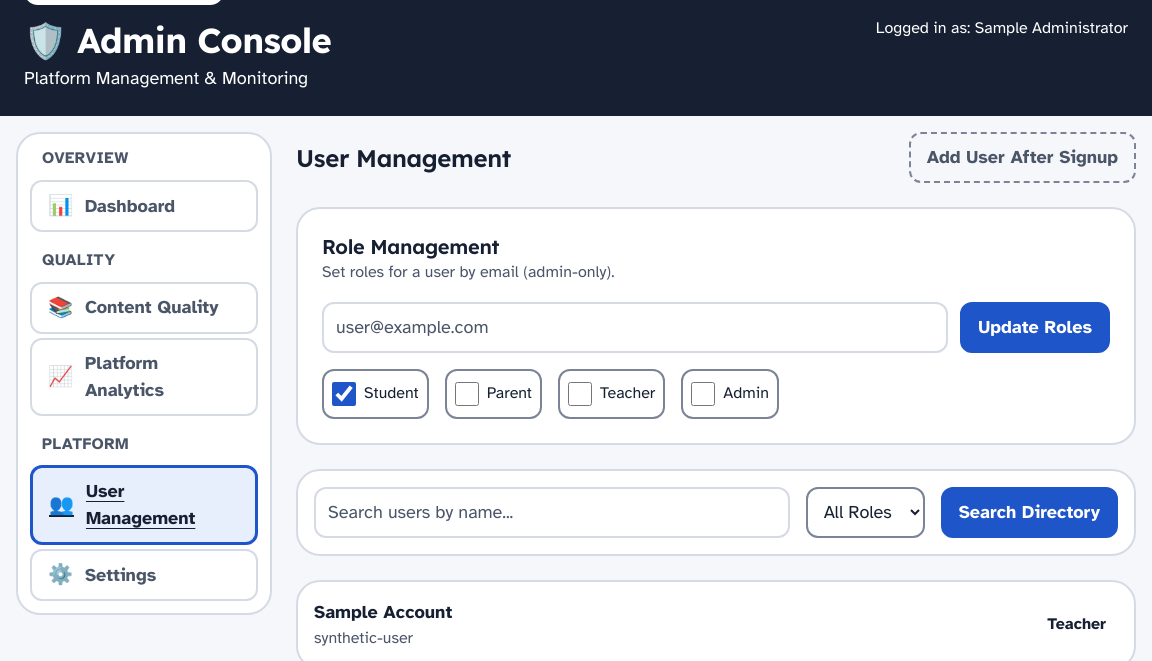
Test: Clear Path administration preserves existing behavior › preserves directory Enter search, filtering and the error state
Expected: the text "Sample Account" is shown, [314,598,452,626]
Select "Parents" in the dropdown named "Filter users by role" at (865, 512), box [806,487,925,538]
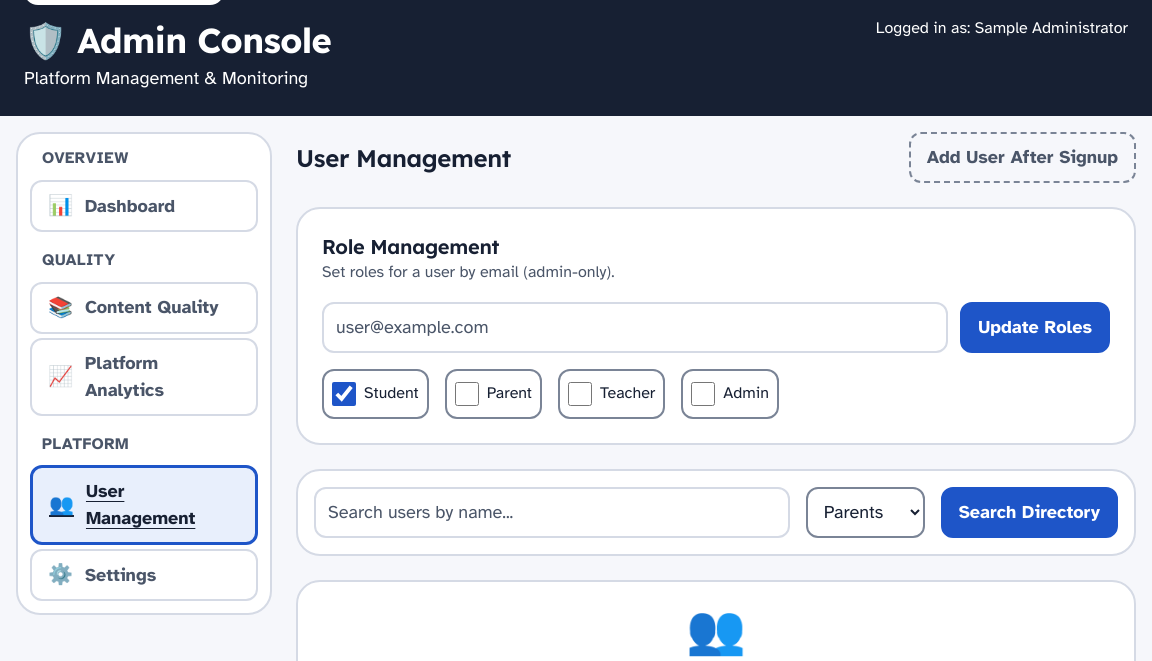
Now the text "Sample Account" is gone
Type " Sample " into the field labelled "Search users by name" at (552, 512), box [314,487,790,538]
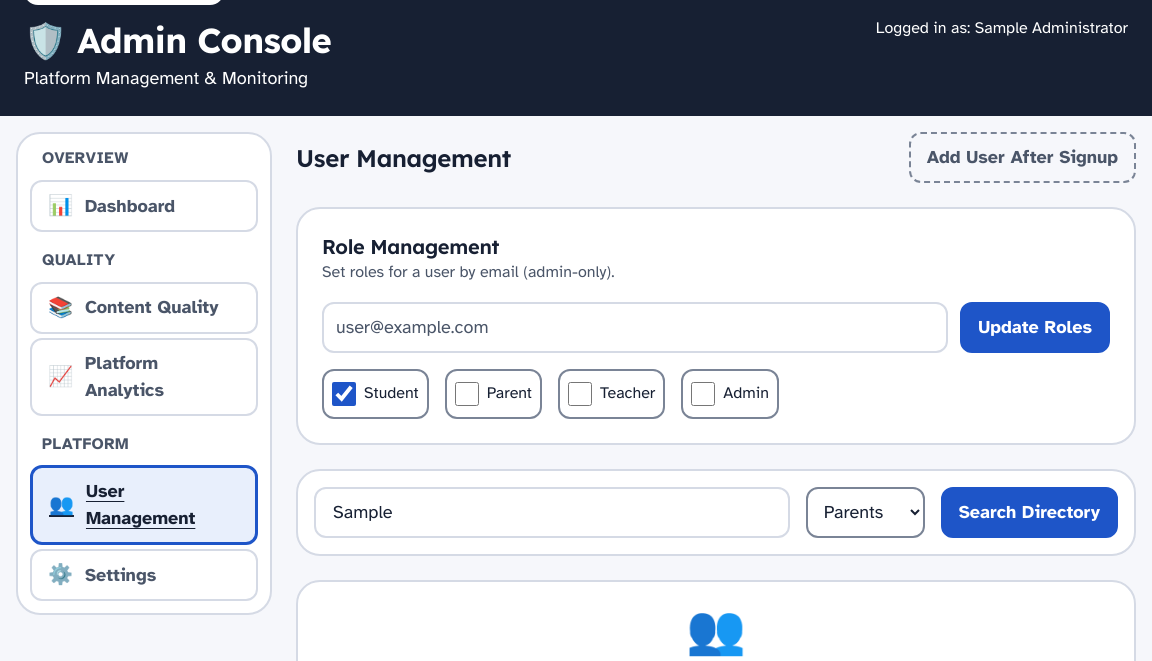
Press Enter in the field named "Search users by name", box [314,487,790,538]
(page scrolled)
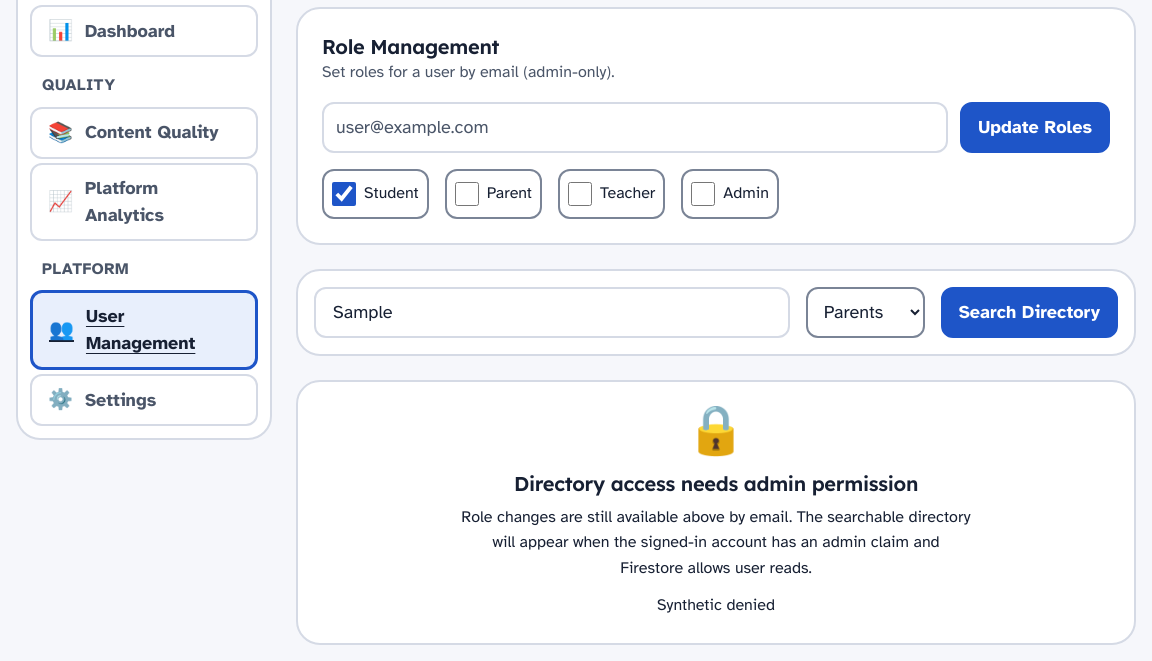
Now the heading "Directory access needs admin permission" is shown, box [514,471,918,496]
